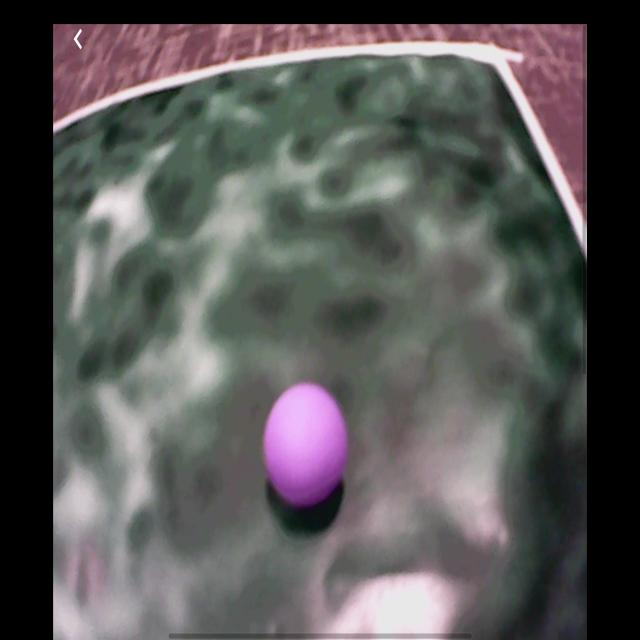ball: (263, 381, 349, 510)
